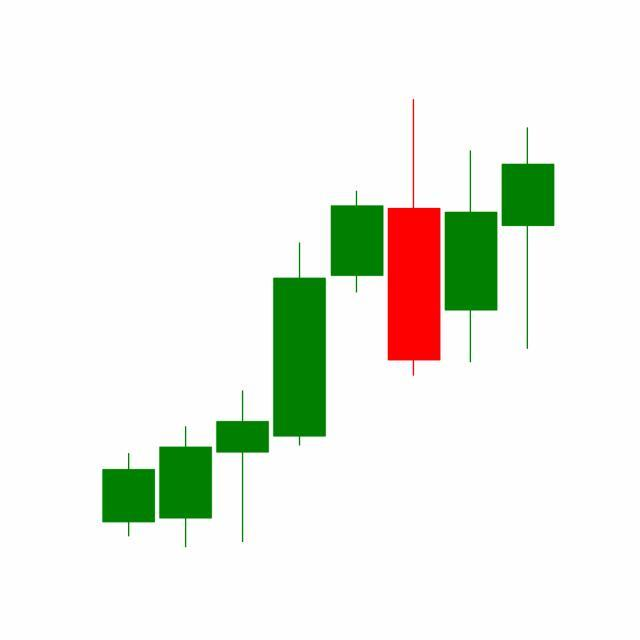Hikkake Pattern: (270, 99, 555, 450)
